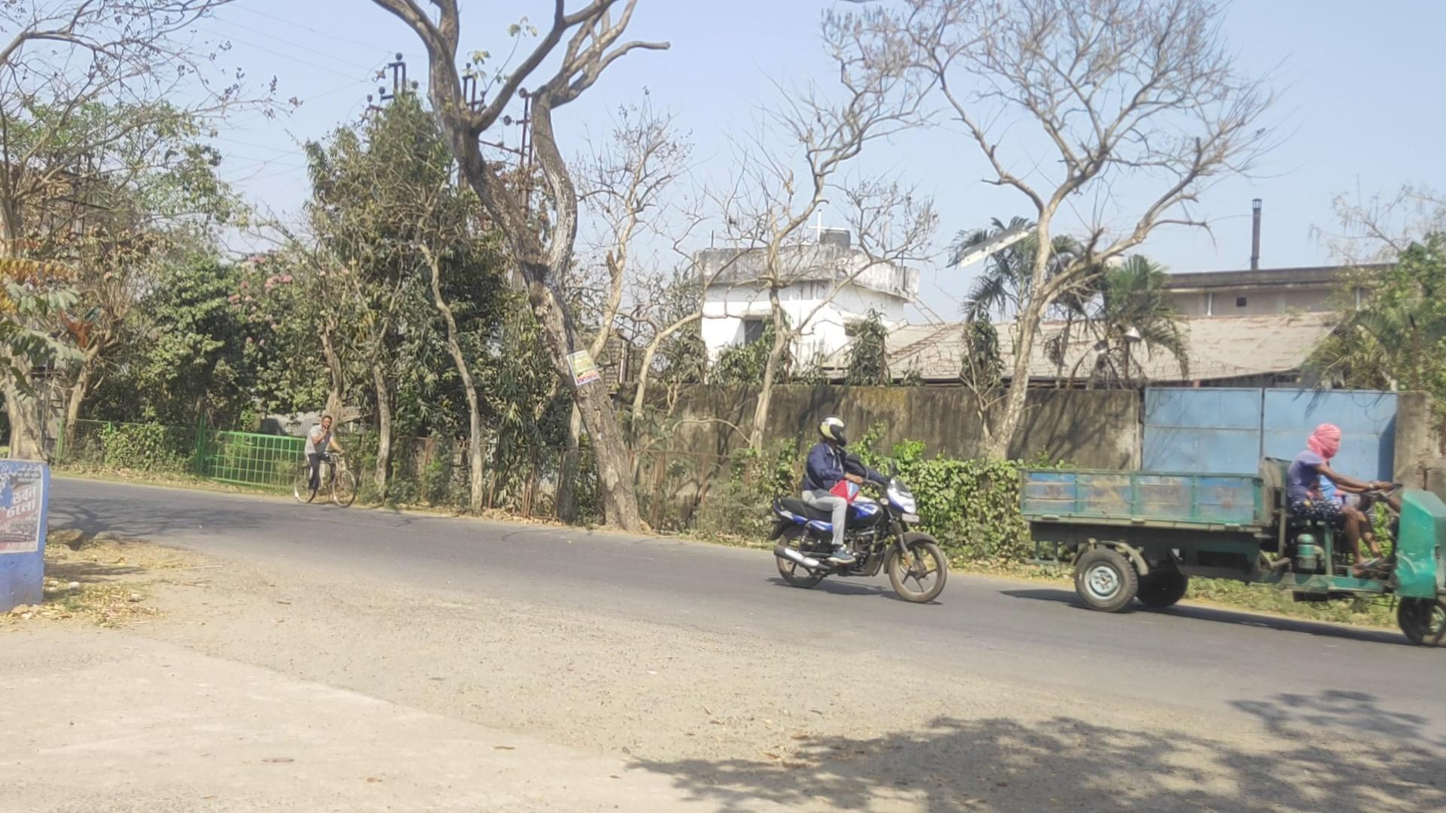bike: (766, 416, 947, 604), (294, 415, 356, 509)
